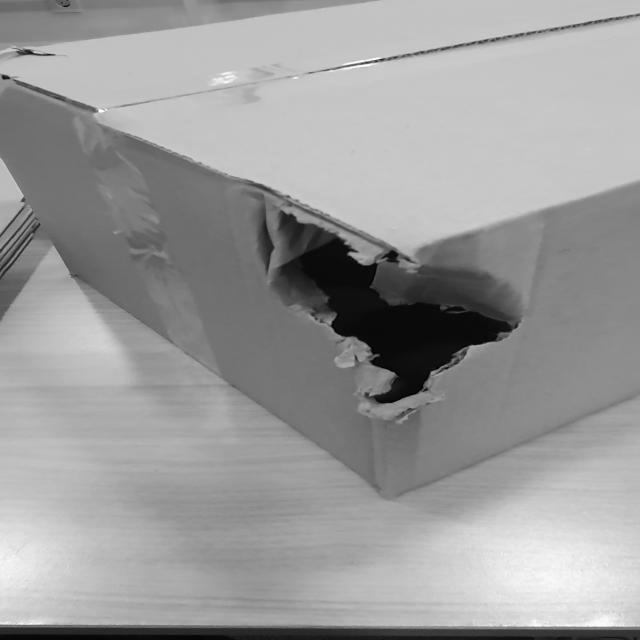hole: (253, 200, 537, 418)
